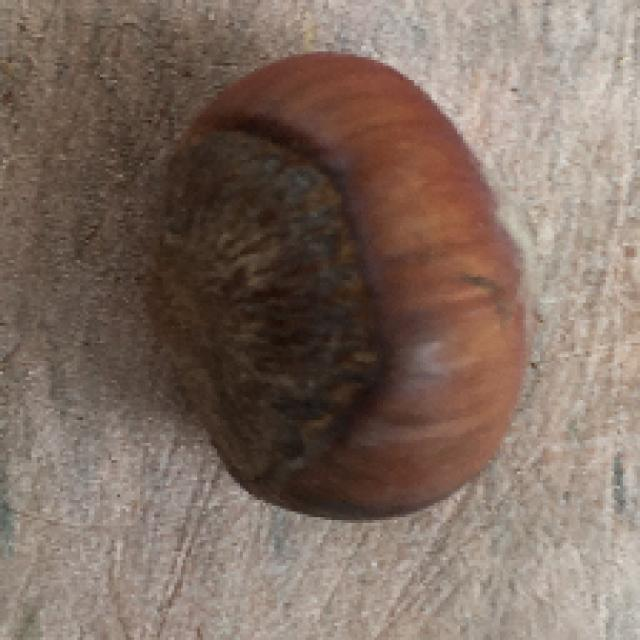qualityHazelnut: (137, 42, 540, 526)
